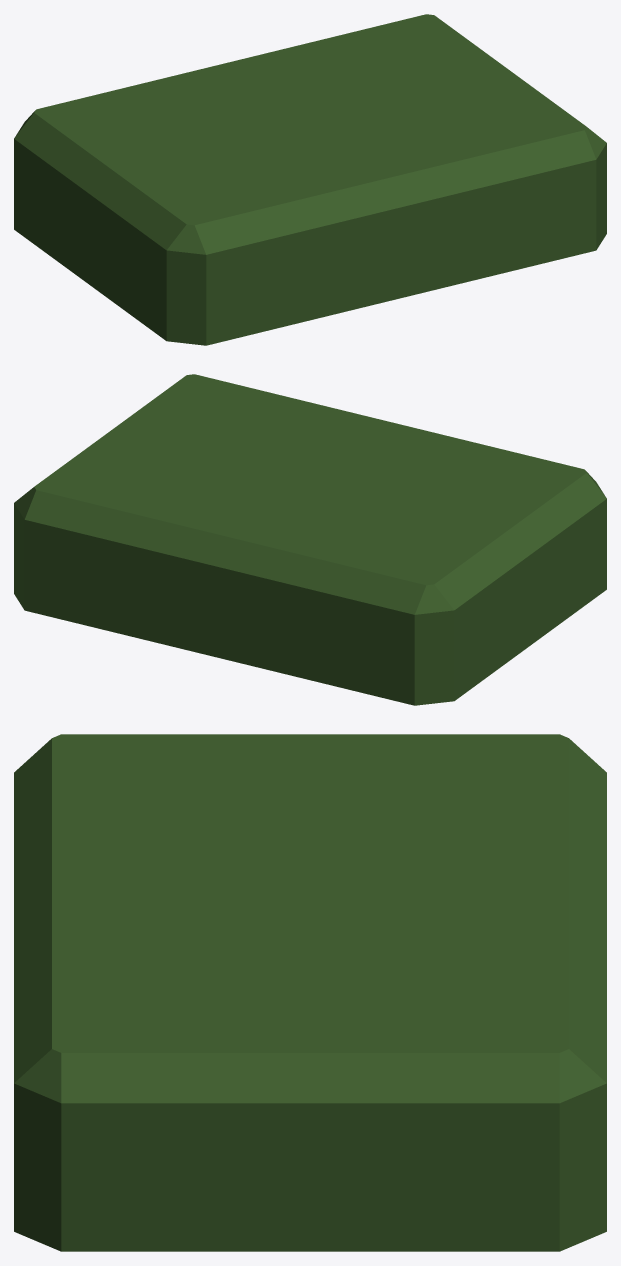
The model's file is hedge.glb.
The picture shows the model from 3 angles, top to bottom: view 1: azimuth 30°, elevation 25°; view 2: azimuth 150°, elevation 25°; view 3: azimuth 270°, elevation 25°; orthographic projection. The views are drawn at different scales.
Visible parts, largest first — view 1: Hedge; view 2: Hedge; view 3: Hedge.
Boxes of the visible parts, x1,y1,x2,y2 form: Hedge: (14,14,606,345); Hedge: (14,374,606,705); Hedge: (14,734,606,1251).
Size of the model in its own units: 0.35 by 0.085 by 0.25.
